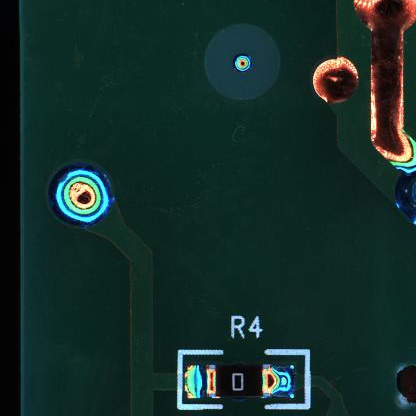spot: (51, 163, 113, 226)
